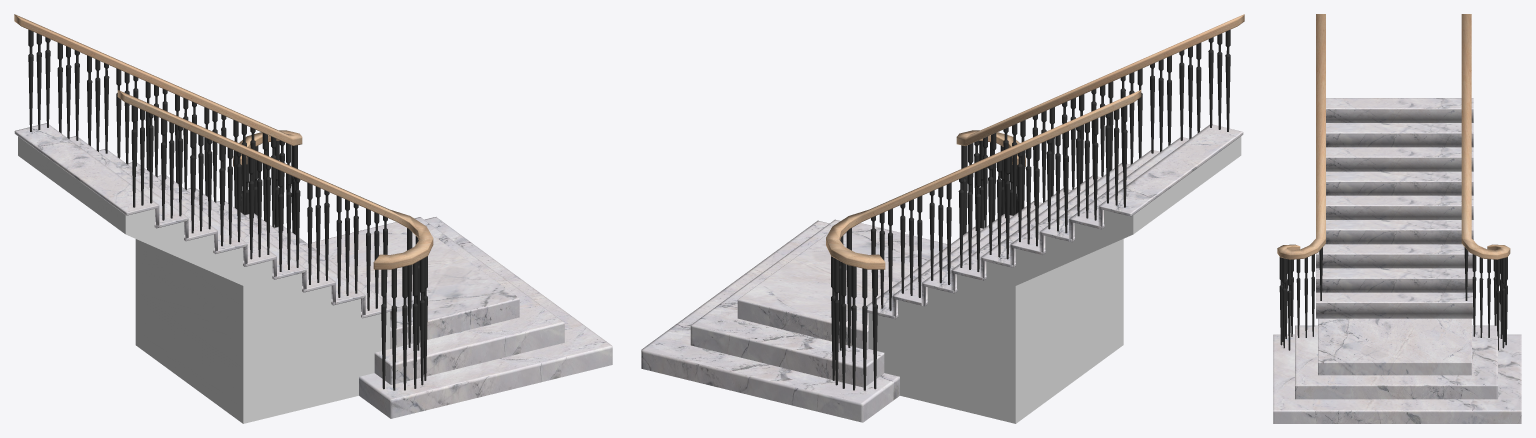
File: stairs.glb
3 views of the same model, side by side, from view 1: azimuth 30°, elevation 25°; view 2: azimuth 150°, elevation 25°; view 3: azimuth 270°, elevation 25° (orthographic). The views are drawn at different scales.
Parts seen in each view (by area): view 1: Plane, Cylinder.001, Stairs, Slab_3, Slab_1, Slab_2, Plane.000, Cylinder.000; view 2: Plane, Cylinder.001, Stairs, Slab_3, Slab_1, Slab_2, Plane.000, Cylinder.000; view 3: Stairs, Slab_3, Slab_1, Slab_2, Plane.000, Cylinder.000, Cylinder.001.
Part boxes in pixels (x1,y1,x2,y2): Plane: [18, 136, 390, 423]; Cylinder.001: [28, 29, 387, 310]; Stairs: [14, 123, 392, 330]; Slab_3: [359, 217, 612, 418]; Slab_1: [311, 222, 519, 348]; Slab_2: [374, 217, 564, 384]; Plane.000: [14, 14, 433, 269]; Cylinder.000: [240, 141, 427, 390]; Plane: [868, 136, 1241, 423]; Cylinder.001: [871, 29, 1230, 310]; Stairs: [867, 124, 1243, 327]; Slab_3: [641, 220, 899, 422]; Slab_1: [737, 223, 947, 349]; Slab_2: [690, 219, 884, 387]; Plane.000: [826, 14, 1244, 269]; Cylinder.000: [831, 141, 1018, 390]; Stairs: [1316, 98, 1473, 318]; Slab_3: [1273, 334, 1521, 423]; Slab_1: [1318, 318, 1471, 375]; Slab_2: [1295, 325, 1497, 399]; Plane.000: [1277, 14, 1510, 259]; Cylinder.000: [1279, 254, 1507, 350]; Cylinder.001: [1319, 247, 1468, 300].
Size of the model in its own units: 19.99 by 15 by 13.36.
Materials: 4 (2 with a texture image).
